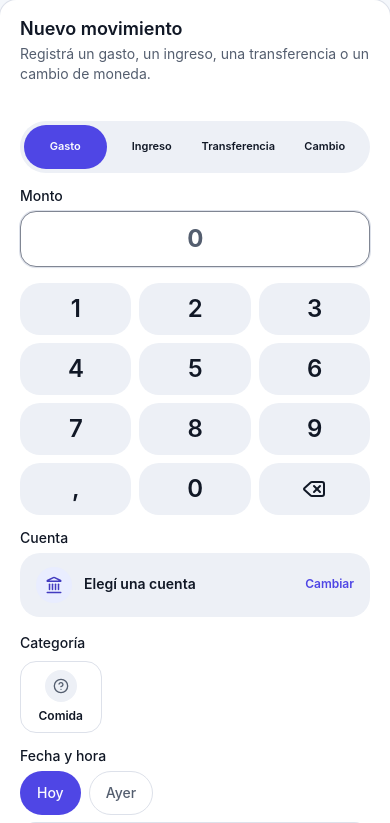
Test case: the on-screen keypad of the movement form › types into the amount that was touched last on an exchange
This screenshot has width=390, height=823.
Click the button with aria-label "Cambio de moneda" at (325, 147), box [284,125,366,169]
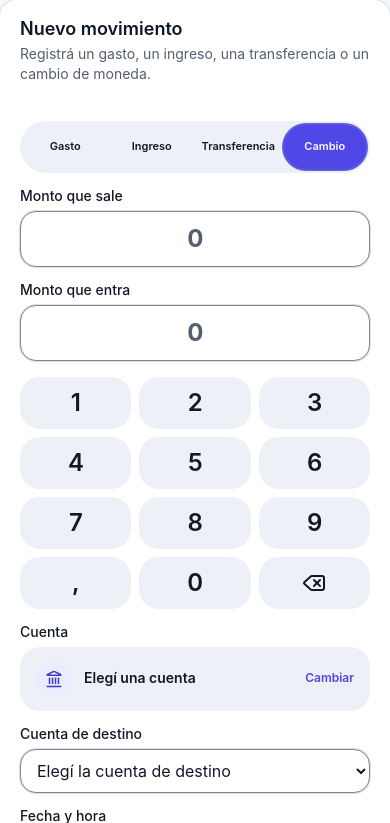
Click the field labelled "Monto que entra" at (195, 333), box [20,305,370,361]
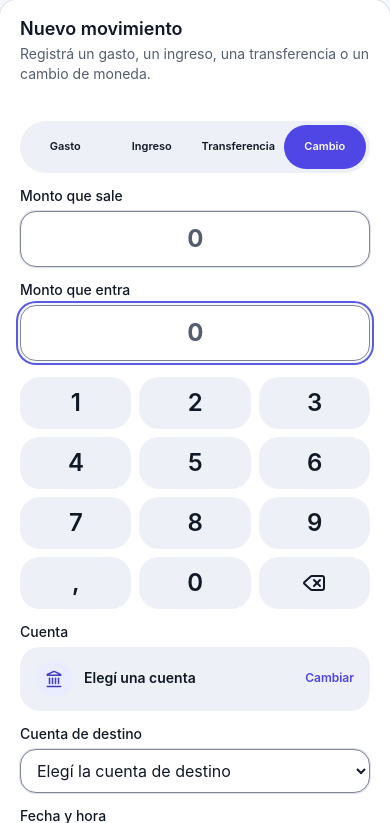
Click the button "7" at (76, 523), box [20,497,131,549]
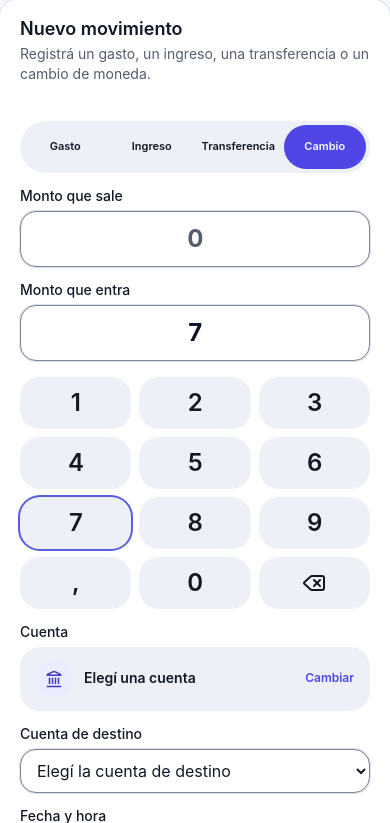
Expected: the field labelled "Monto que sale" is empty, [20,211,370,267]
Now the field labelled "Monto que entra" holds "7", box [20,305,370,361]
